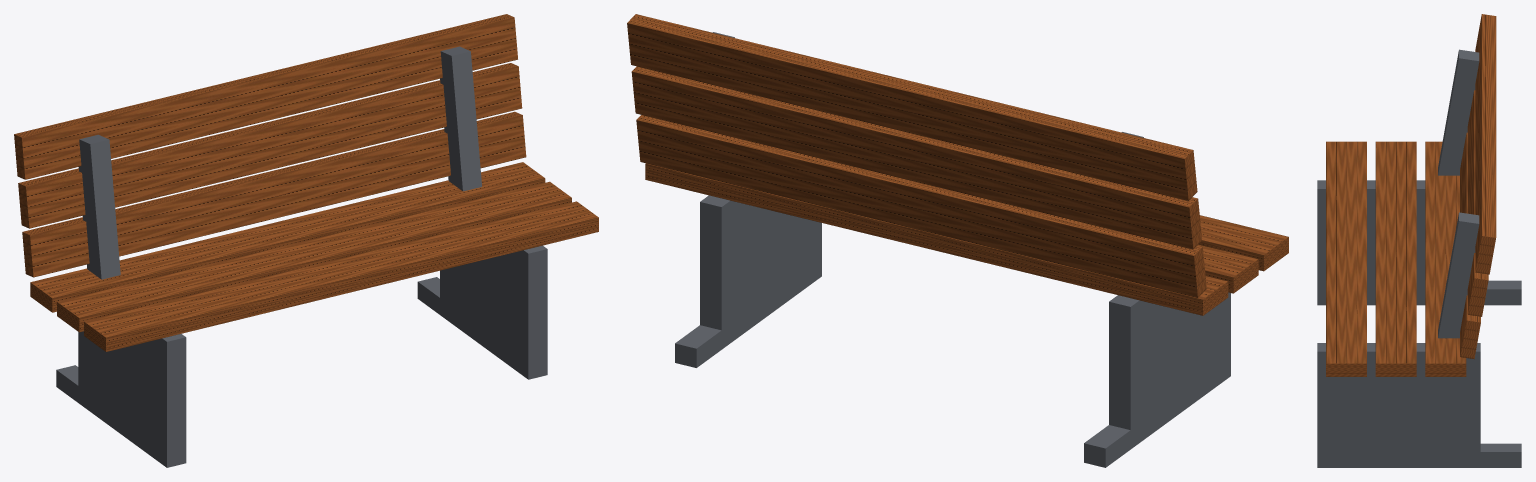
The model's file is plain.glb.
3 views of the same model, side by side, from view 1: azimuth 30°, elevation 25°; view 2: azimuth 150°, elevation 25°; view 3: azimuth 270°, elevation 25° (orthographic). The views are drawn at different scales.
Visible parts, largest first — view 1: park-bench-timber, park-bench-charcoal; view 2: park-bench-timber, park-bench-charcoal; view 3: park-bench-timber, park-bench-charcoal.
Boxes of the visible parts, box(x1,y1,x2,y2) form: park-bench-timber: box(14, 14, 598, 351); park-bench-charcoal: box(56, 46, 547, 467); park-bench-timber: box(627, 14, 1288, 315); park-bench-charcoal: box(675, 32, 1230, 467); park-bench-timber: box(1326, 14, 1496, 376); park-bench-charcoal: box(1317, 49, 1521, 467).
Bounding box in the file's own units: 1.8 × 0.9731 × 0.7.
Materials: 2 (1 with a texture image).
